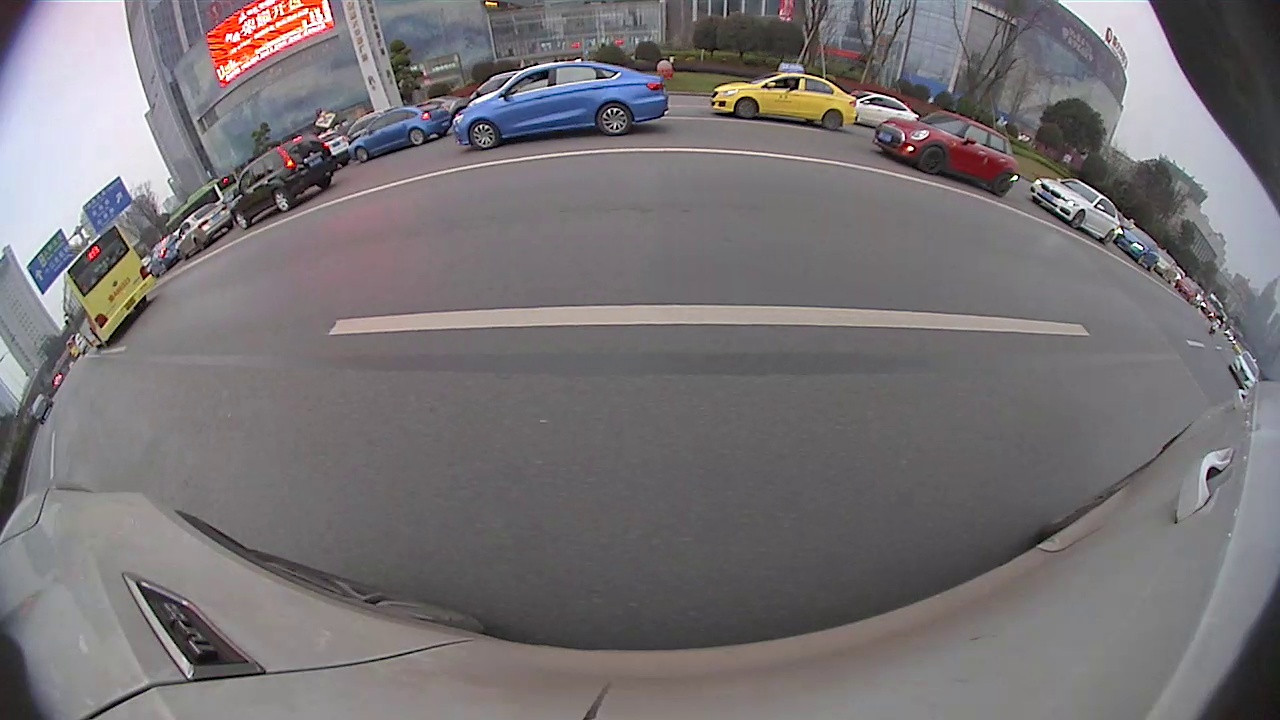bus: (58, 222, 158, 350), (163, 171, 241, 235)
car: (457, 59, 669, 153), (876, 108, 1017, 196), (709, 63, 860, 134), (230, 134, 339, 230), (345, 102, 452, 166), (1029, 177, 1120, 246), (173, 201, 232, 263), (844, 87, 921, 133)
front: (916, 140, 951, 179), (467, 118, 500, 153), (733, 95, 759, 119), (231, 208, 252, 231), (1066, 211, 1086, 232), (352, 143, 370, 164)
rear: (596, 100, 635, 135), (819, 108, 847, 132), (990, 171, 1014, 197), (271, 188, 294, 214), (408, 125, 428, 148), (1100, 231, 1118, 250), (316, 173, 331, 193)
